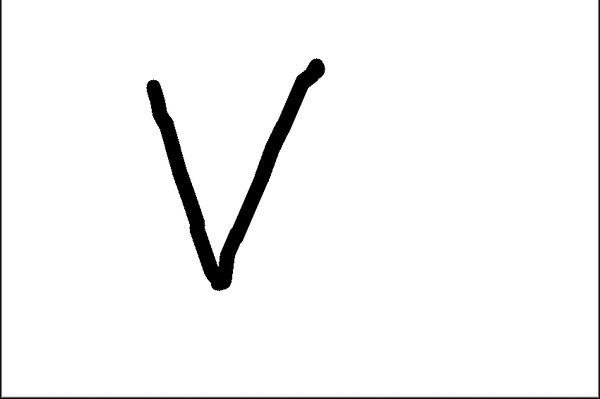V: (138, 56, 334, 295)
